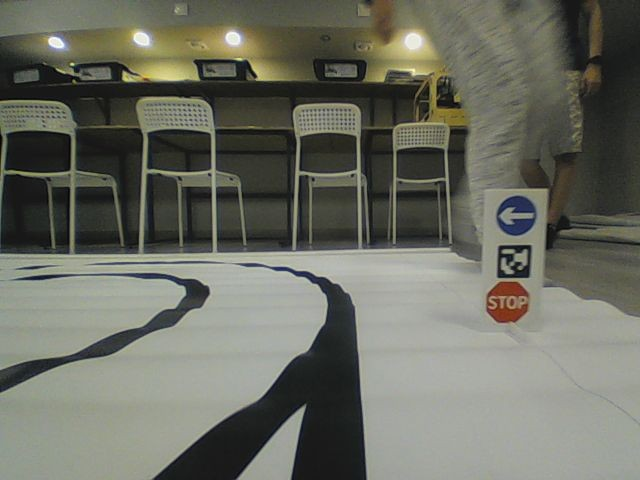Stop: (484, 280, 531, 325)
